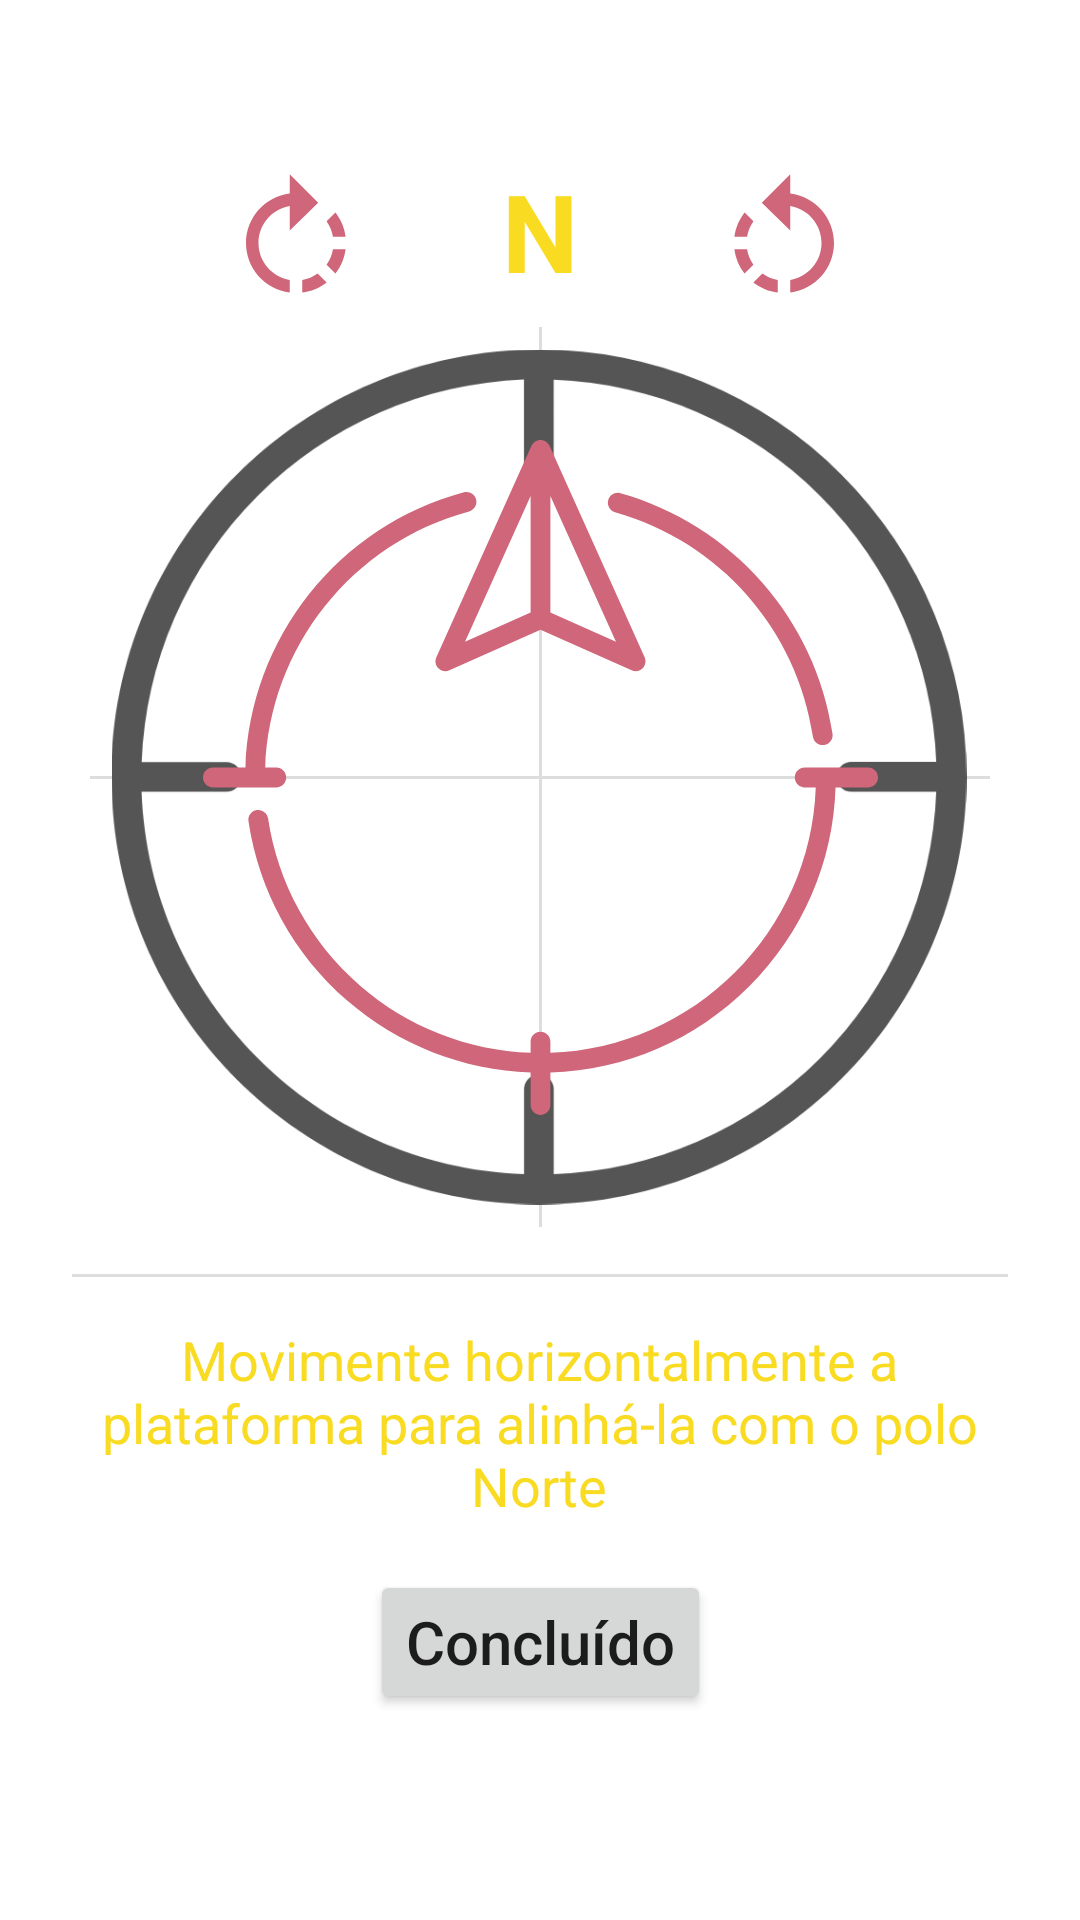

Icon click points for this 1080w x 1920h phone screenshot, format [x,y]:
rotate left: [784,234]
rotate right: [296,234]
